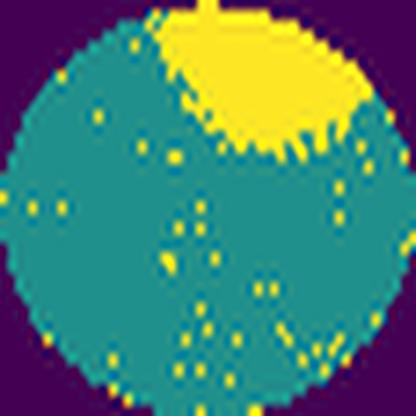Edge-Loc: (143, 0, 374, 166)
